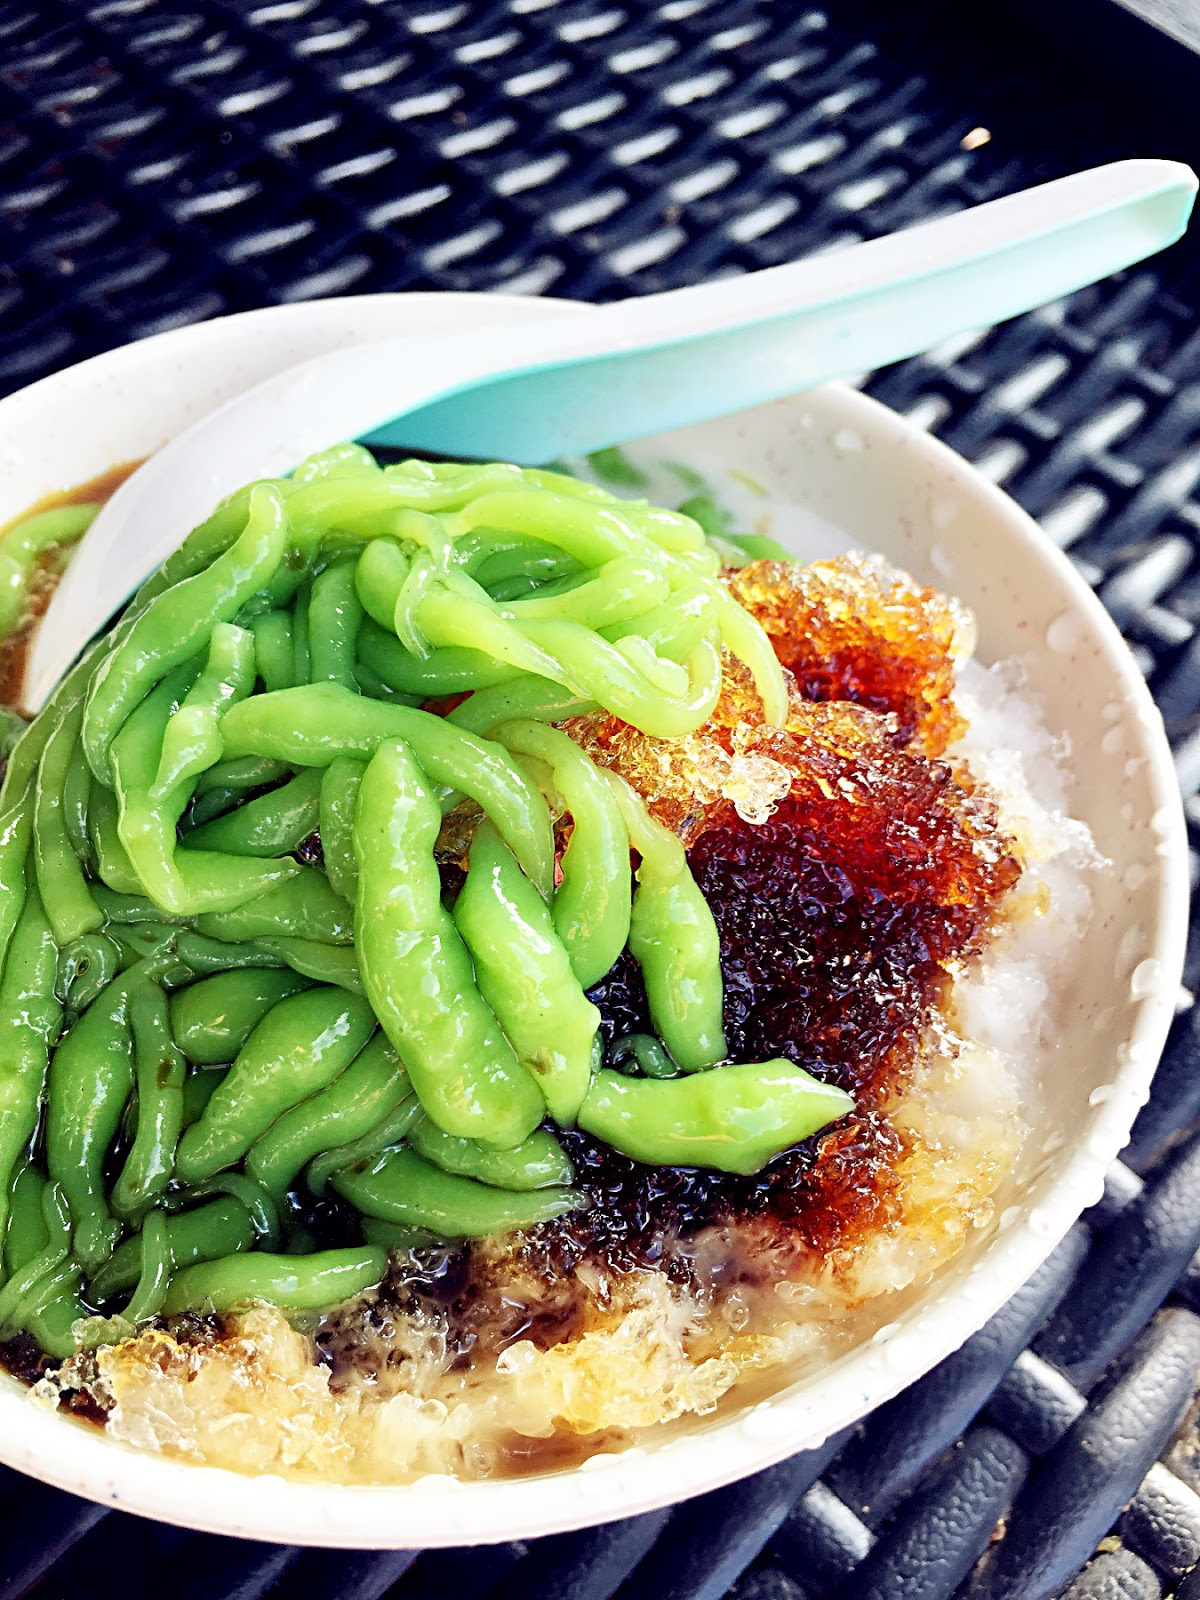Chendol: (23, 314, 1089, 1477)
